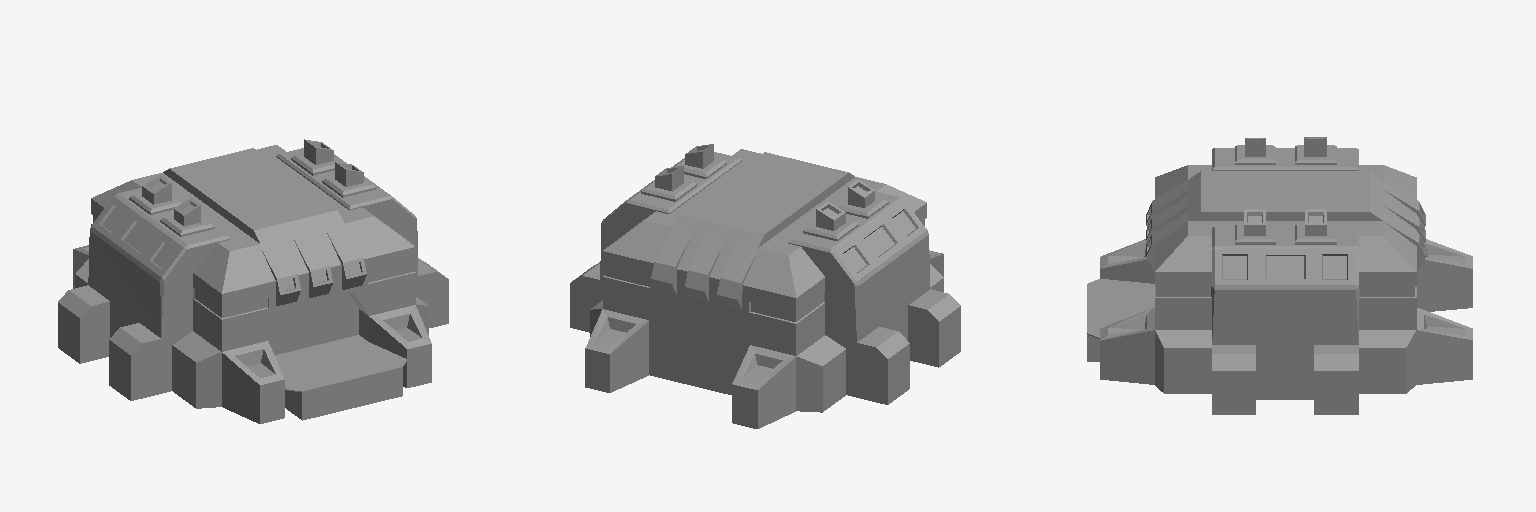
File: hospital.obj
3 renders of one model, left to right at view 1: azimuth 30°, elevation 25°; view 2: azimuth 150°, elevation 25°; view 3: azimuth 270°, elevation 25°, orthographic.
Visible parts, largest first — view 1: Cube; view 2: Cube; view 3: Cube.
Boxes of the visible parts, box(x1,y1,x2,y2) form: Cube: box(58, 139, 448, 423); Cube: box(570, 144, 960, 428); Cube: box(1087, 137, 1472, 414).
Bounding box in the file's own units: 9.39 × 4.61 × 9.88.